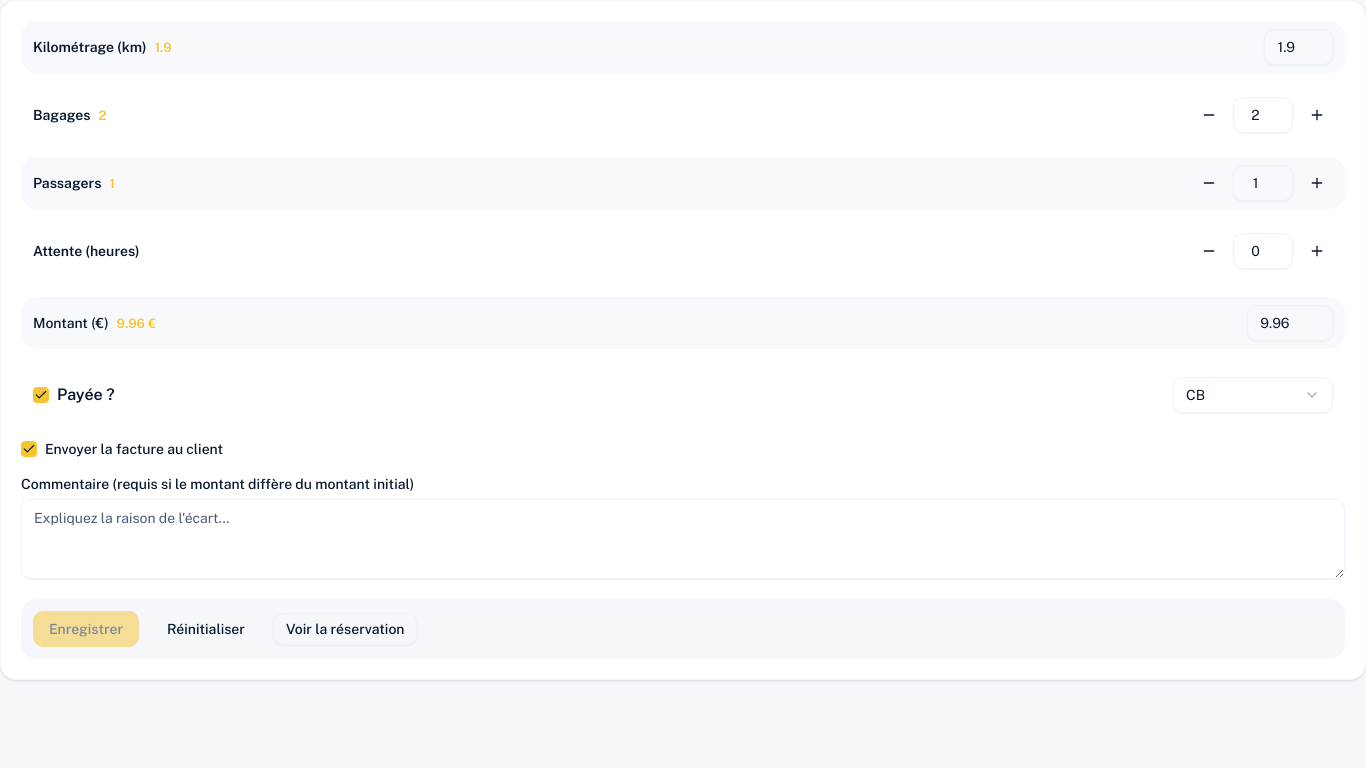
Test: InvoiceEditForm › exige un commentaire si le montant diffère du montant initial
# modifier le montant
Replace the text in the number field labelled "Montant (€) 9.96 €" with "12.50" at x=1290, y=323, box [1247,305,1333,341]
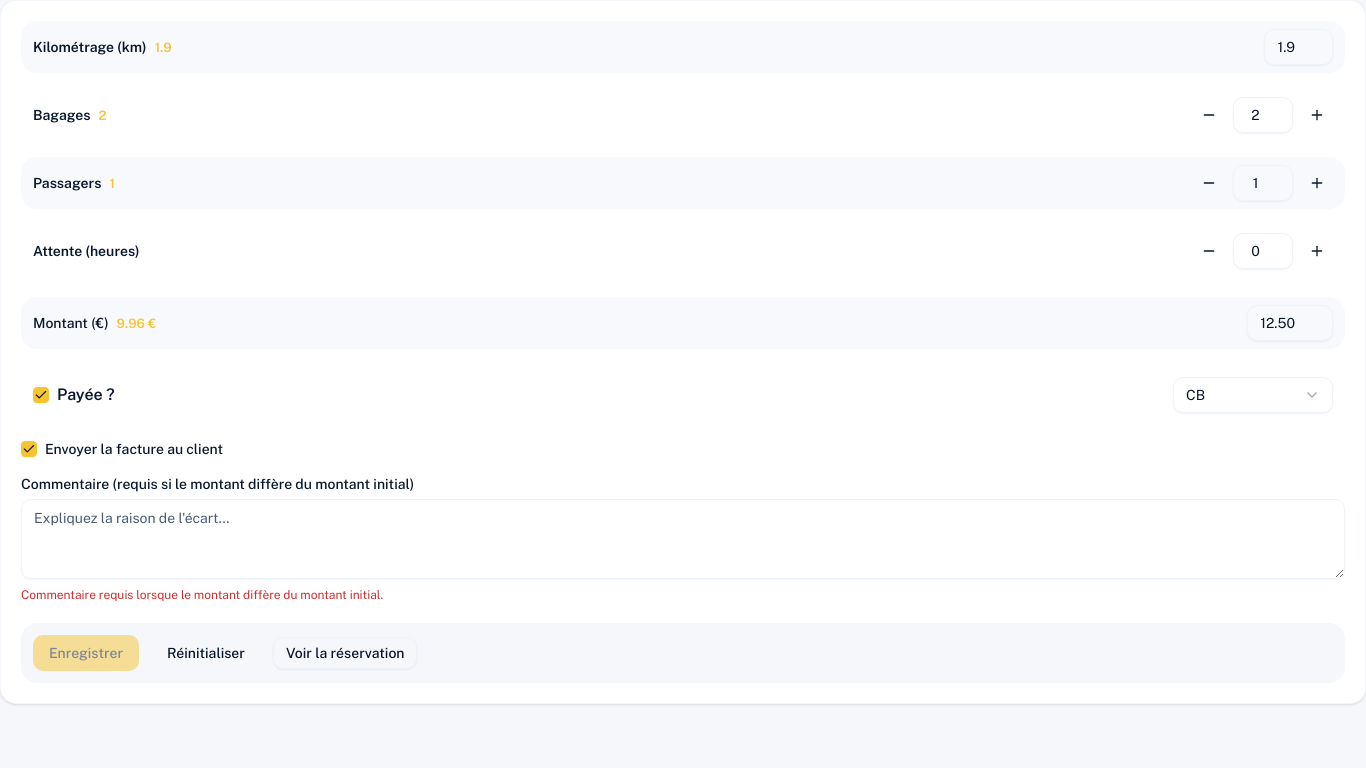
Expected: the button "Enregistrer" is disabled, [33,635,139,671]
Expected: the text "Commentaire requis lorsque le montant diffère" is shown, [21,588,383,602]
Type "Ajustement manuel" into the text box labelled "Commentaire".
click(683, 539); type("Ajustement manuel")  # box [21,499,1345,579]
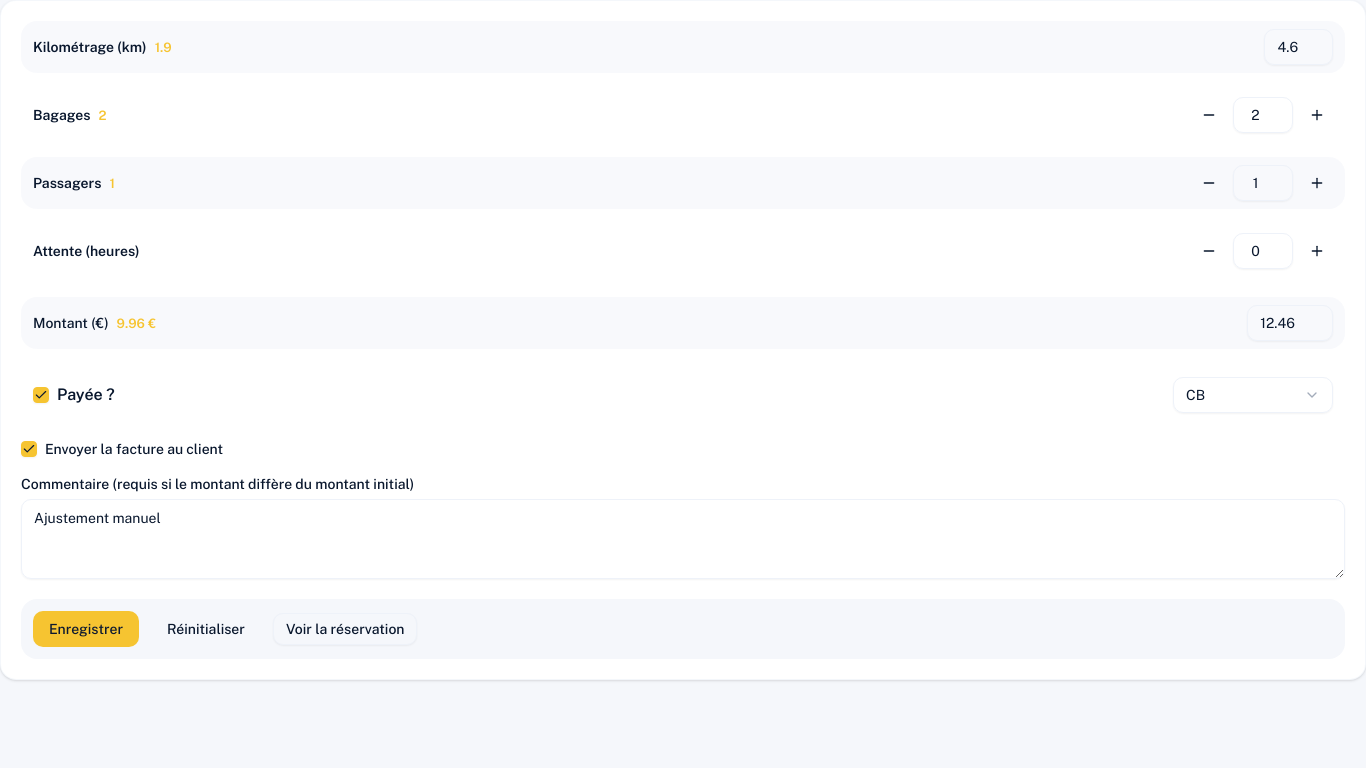
Expected: the button "Enregistrer" is enabled, [33,611,139,647]
